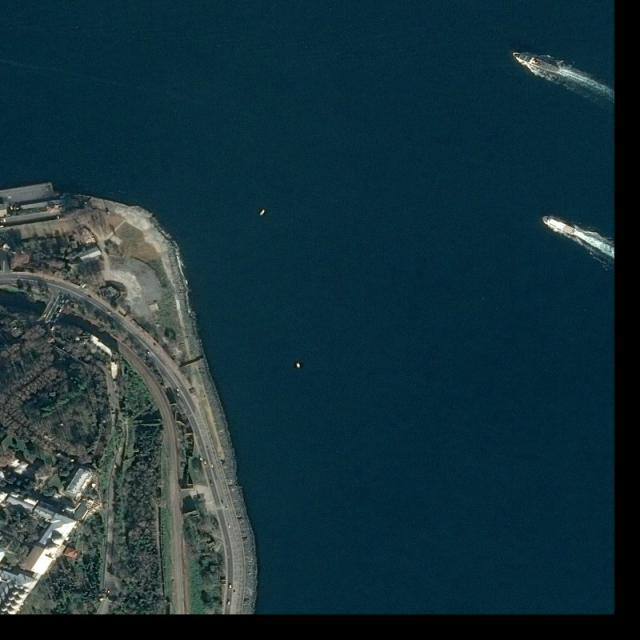ship: (510, 50, 562, 77), (542, 214, 577, 237), (259, 209, 266, 217), (296, 362, 302, 370)
